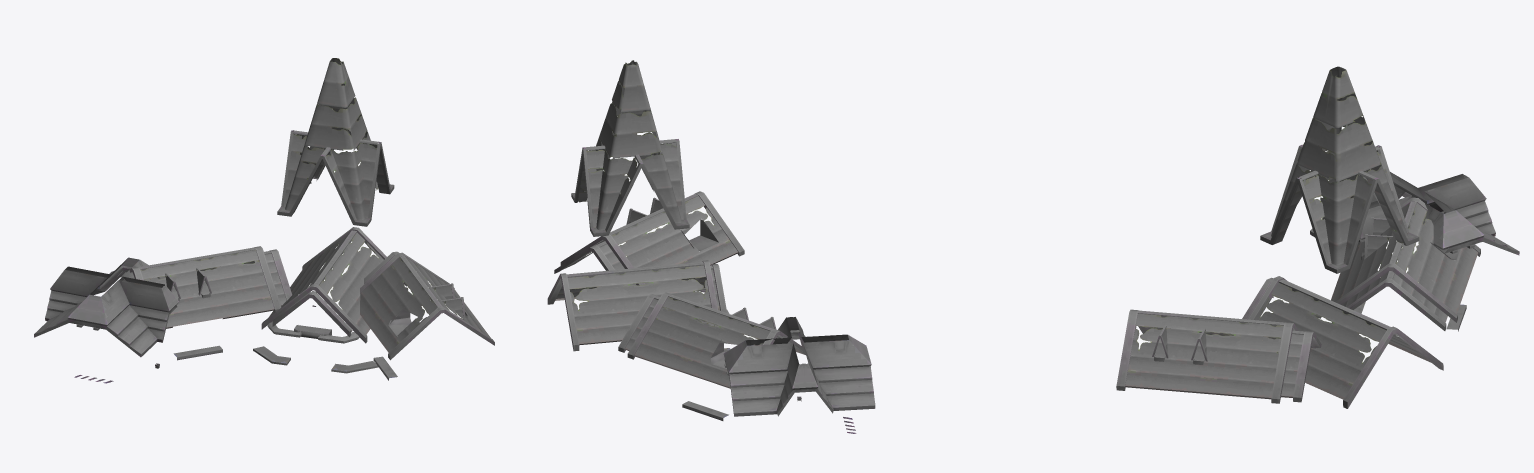
File: pref_sm_garden_house_vertexcolor04_lv1.fbx
3 renders of one model, left to right at view 1: azimuth 30°, elevation 25°; view 2: azimuth 150°, elevation 25°; view 3: azimuth 270°, elevation 25°, orthographic. The views are drawn at different scales.
Parts seen in each view (by area): view 1: pref_sm_garden_house_vertexcolor04_lv1; view 2: pref_sm_garden_house_vertexcolor04_lv1; view 3: pref_sm_garden_house_vertexcolor04_lv1.
Boxes of the visible parts, box(x1,y1,x2,y2) form: pref_sm_garden_house_vertexcolor04_lv1: box(34, 58, 494, 383); pref_sm_garden_house_vertexcolor04_lv1: box(547, 60, 875, 433); pref_sm_garden_house_vertexcolor04_lv1: box(1116, 66, 1519, 408).
Bounding box in the file's own units: 26.34 × 21.36 × 27.52.
